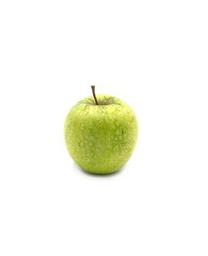apple: (63, 85, 140, 174)
